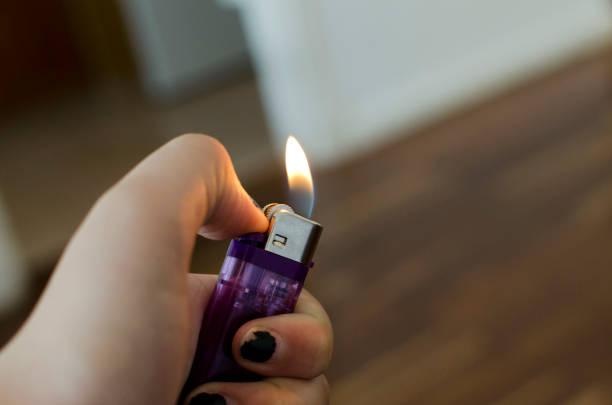Fire: (282, 129, 316, 203)
